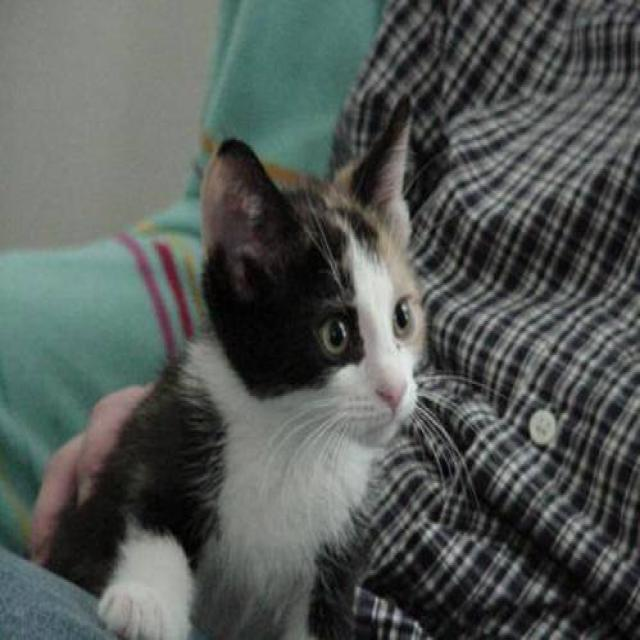cat: (39, 92, 474, 638)
